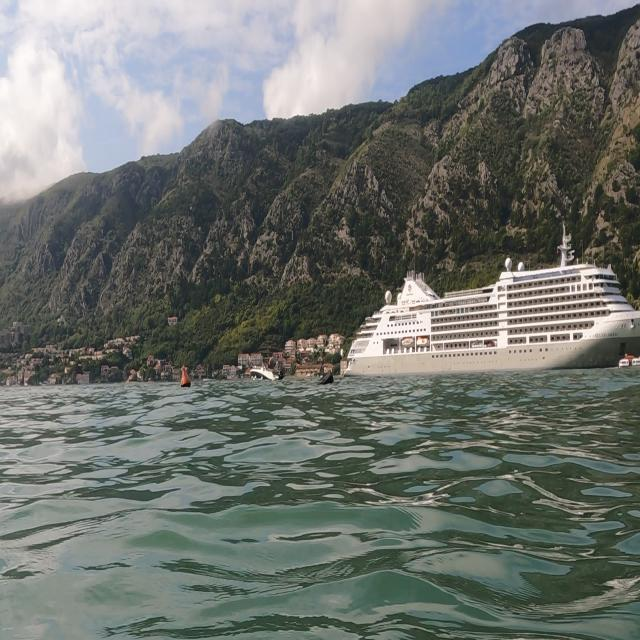boat: (338, 218, 638, 378)
buoy: (176, 364, 196, 396), (311, 369, 337, 393)
